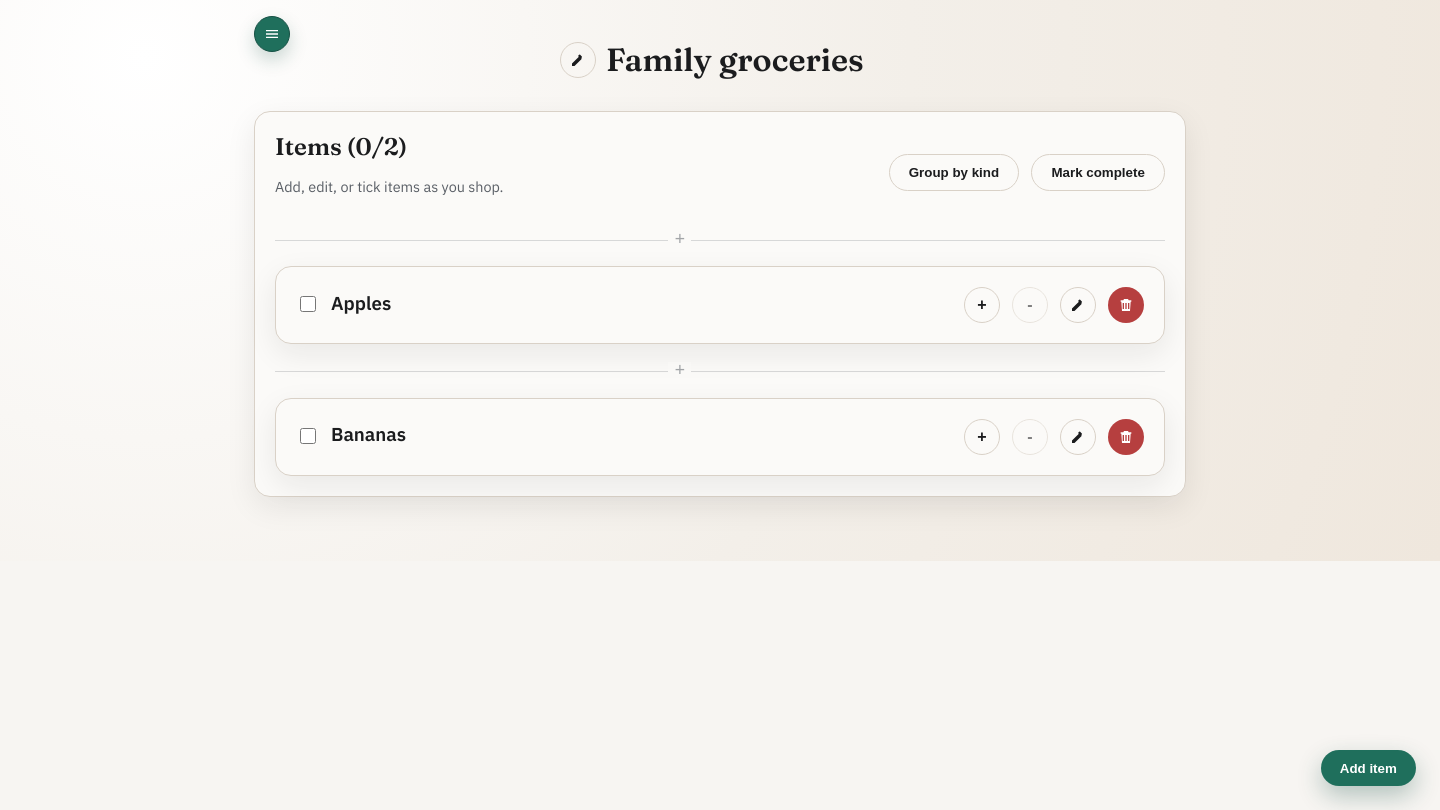
Test case: ListDetail route › raises a persistent warning notice when repositioning fails after create
The width and height of the screenshot is (1440, 810).
Click the button named "Insert here, before Apples": (680, 240) [275,218,1165,262]
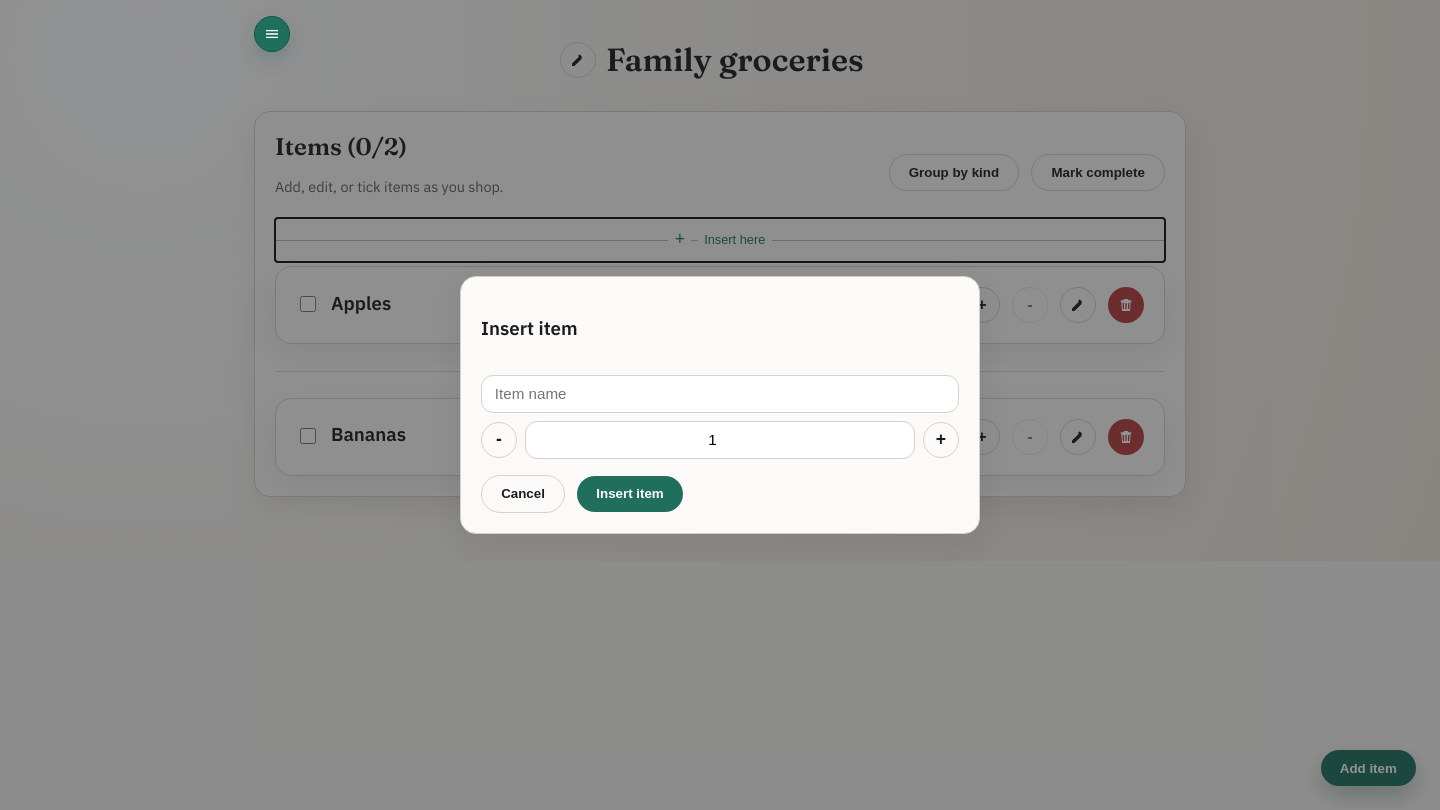
In the field with placeholder "Item name": (720, 394) [481,375,959,413], type "Stranded"
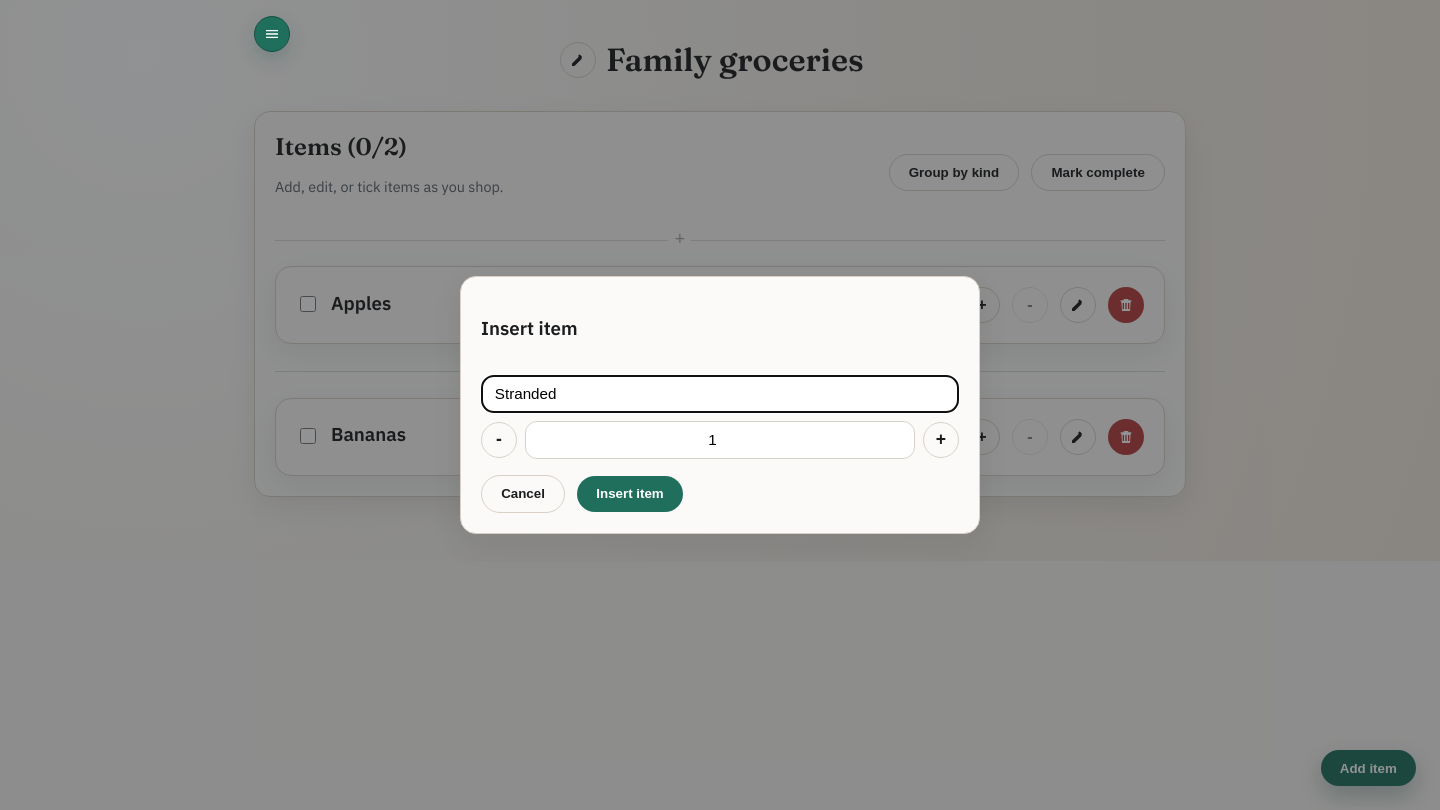
Click the button "Insert item": (630, 494) [577,476,683,512]
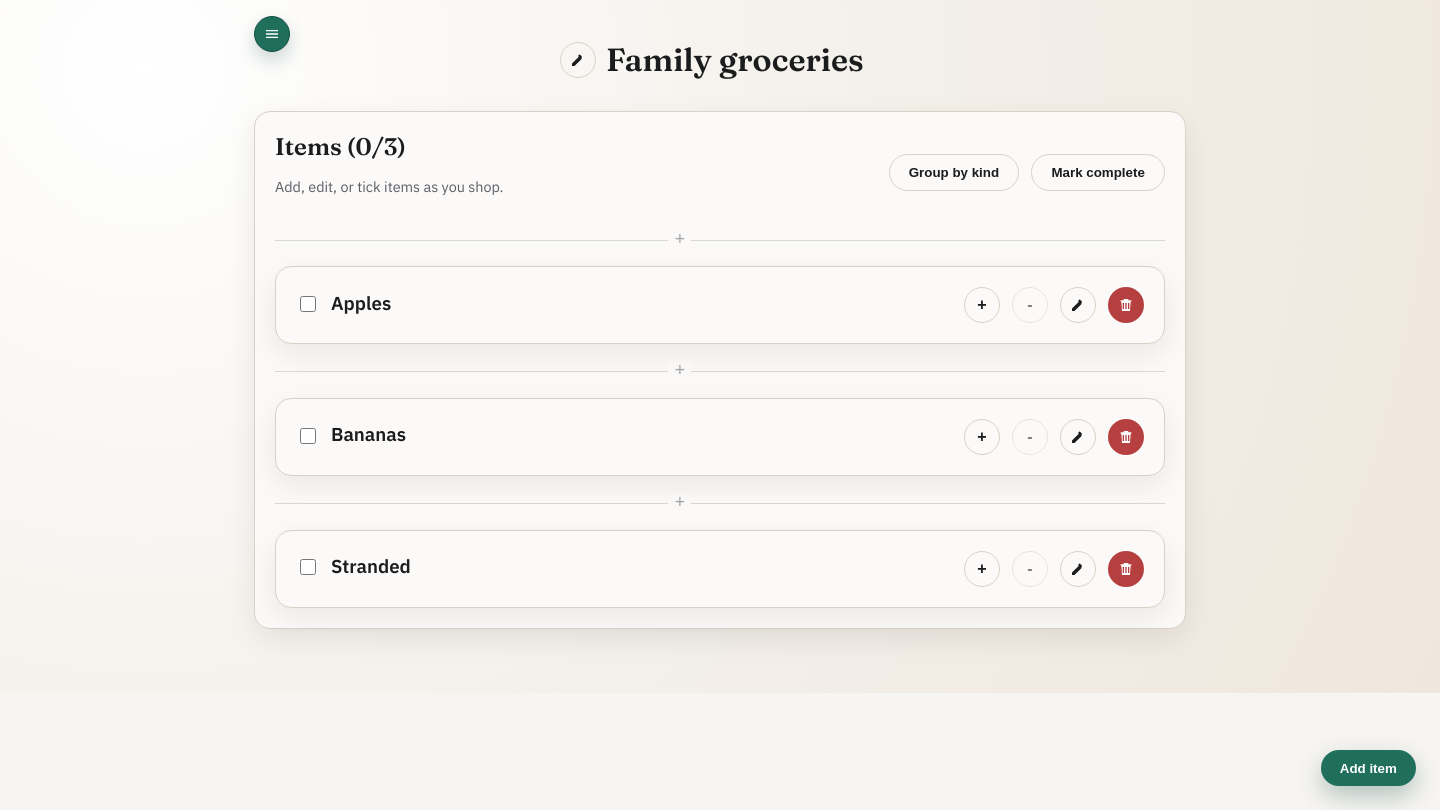
expect the heading "Stranded" is shown: met, box [331,554,411,578]
